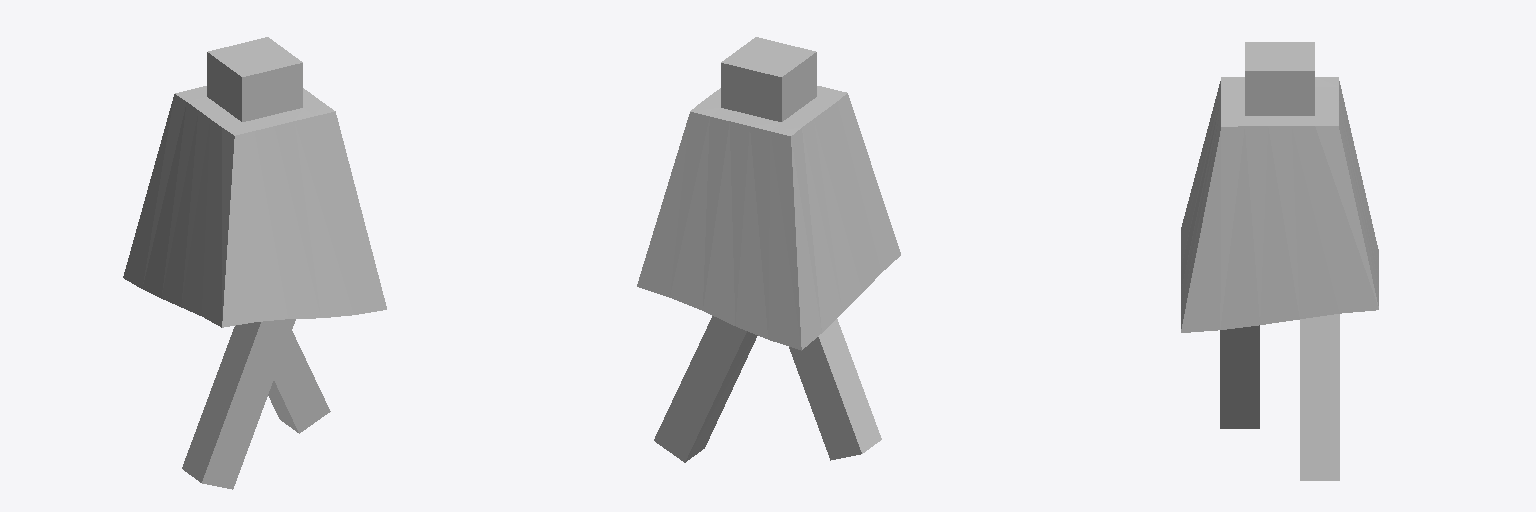
File: essai_000037.obj
3 renders of one model, left to right at view 1: azimuth 30°, elevation 25°; view 2: azimuth 150°, elevation 25°; view 3: azimuth 270°, elevation 25°, orthographic.
Visible parts, largest first — view 1: Cube; view 2: Cube; view 3: Cube.
Part boxes in pixels (left/top/right/bottom): Cube: left=123, top=37, right=386, bottom=489; Cube: left=637, top=37, right=900, bottom=462; Cube: left=1181, top=42, right=1378, bottom=480.
Size of the model in its own units: 1.97 by 4.42 by 2.